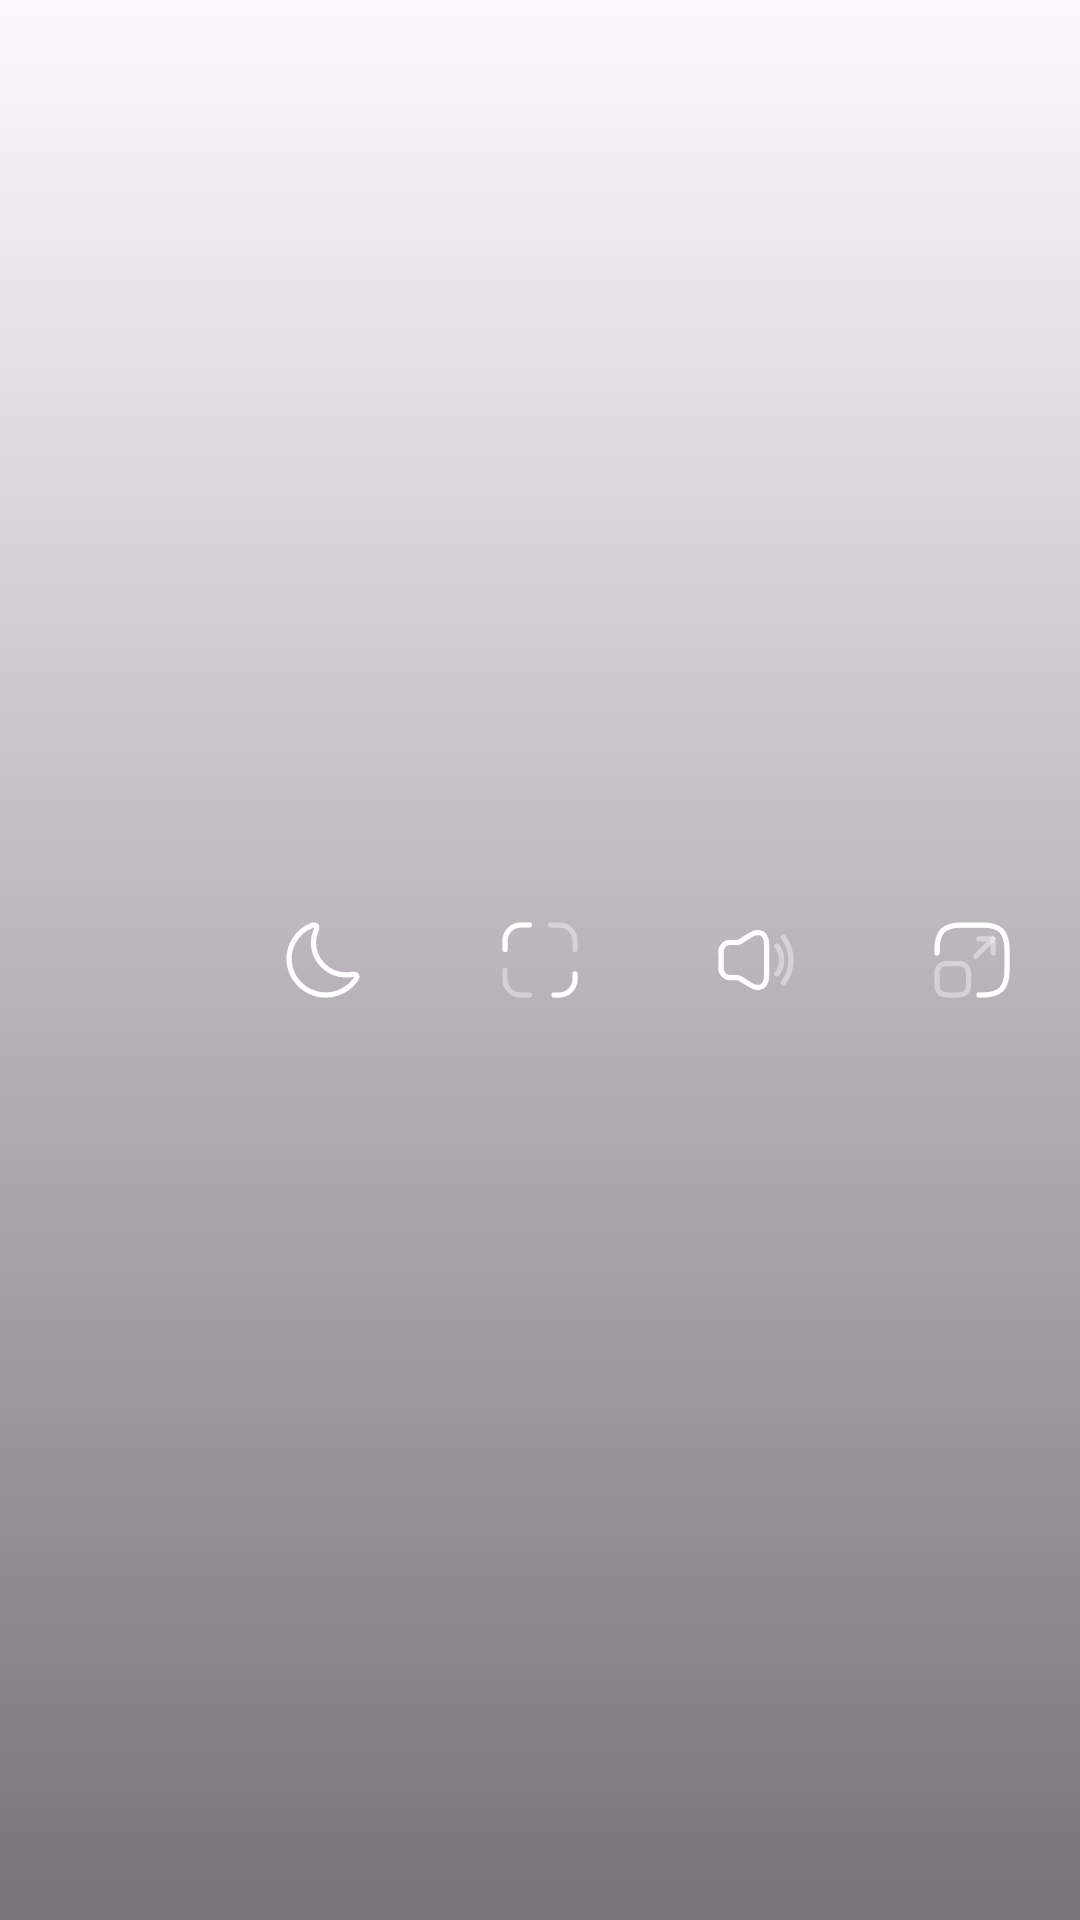

Screen size 1080×1920. Icon name, then its center in pixels as point (x, y):
fit too screen: point (540, 960)
floating: point (972, 960)
night mode: point (323, 960)
volume on: point (755, 960)
